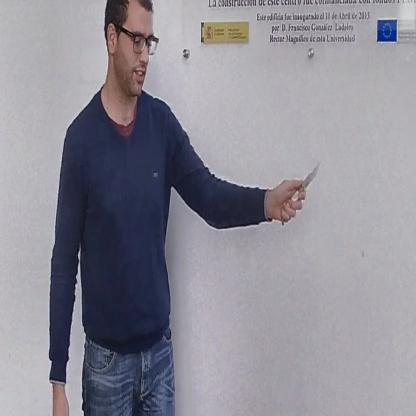knife: (278, 154, 324, 228)
